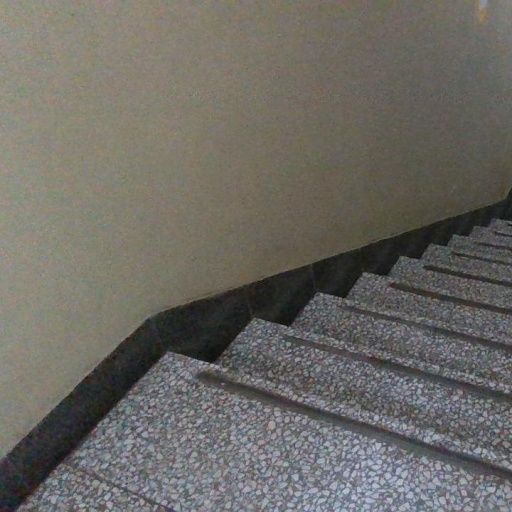Stairs: (18, 220, 512, 512)
